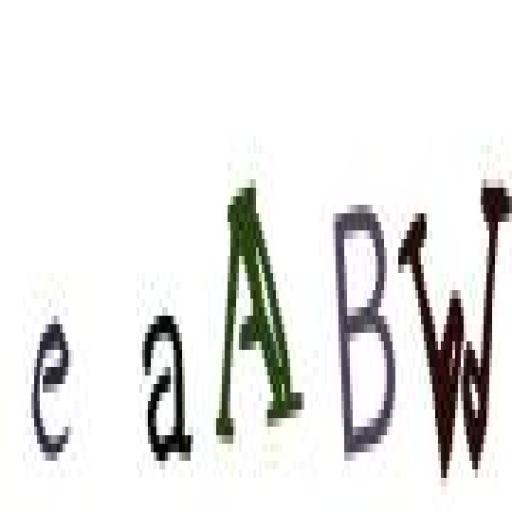A: (212, 168, 308, 460)
B: (329, 188, 399, 475)
W: (398, 180, 512, 486)
a: (138, 287, 200, 483)
e: (23, 283, 76, 482)
